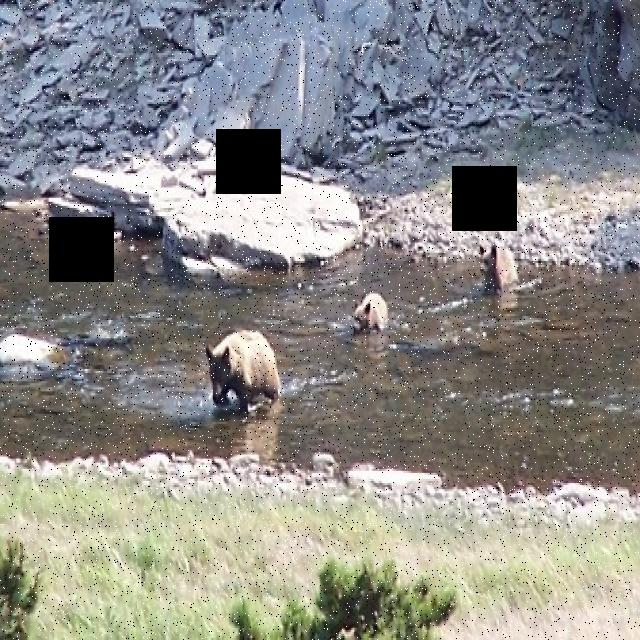Bear: (200, 324, 282, 408), (470, 232, 520, 292), (346, 287, 392, 338)
